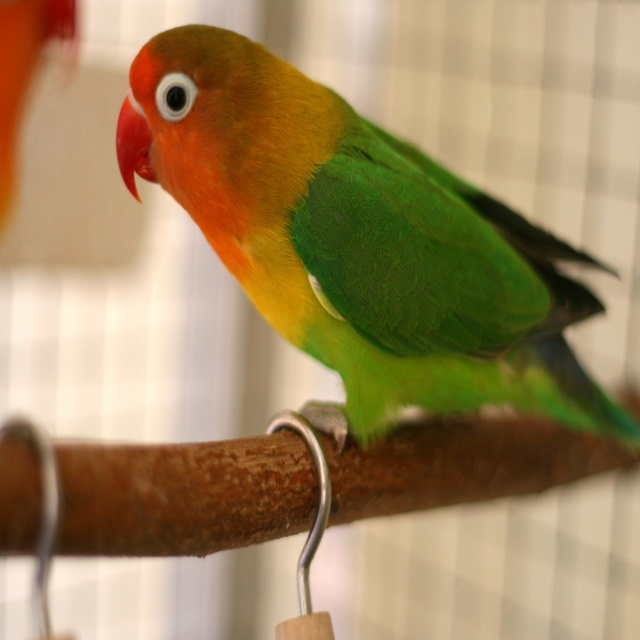Parrot: (114, 20, 640, 456)
